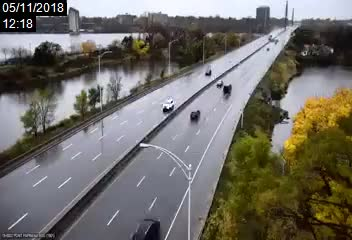personal_car: (131, 217, 162, 240), (161, 98, 176, 113), (188, 108, 202, 122), (222, 83, 233, 94), (205, 66, 212, 76), (217, 79, 223, 87)
